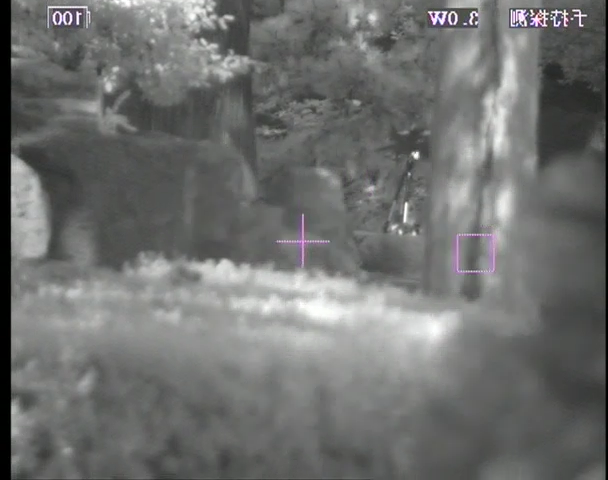my: (411, 149, 420, 160)
